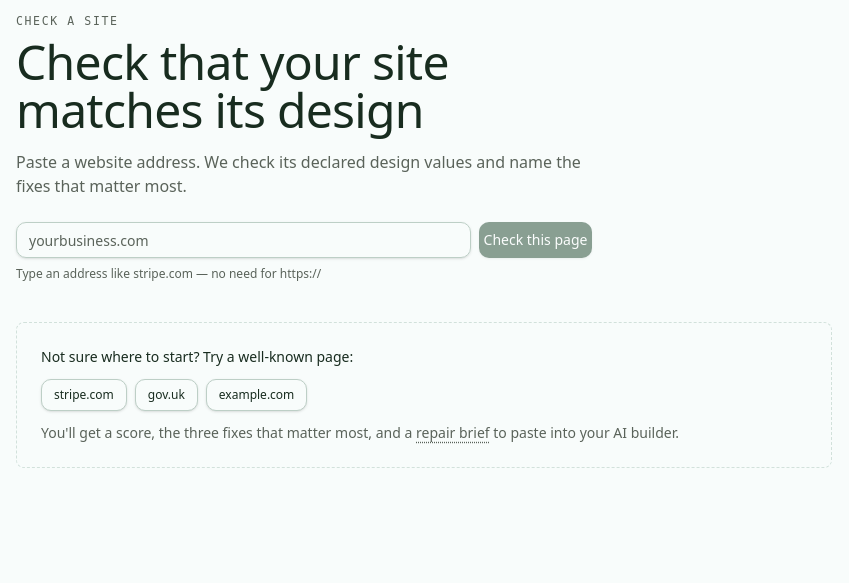
Test: allows a signed-in Sites colleague to check a website without a Supabase account
The image size is (849, 583).
Type "https://example.com" into the field named "Website address" at (244, 240), box [16,222,471,258]
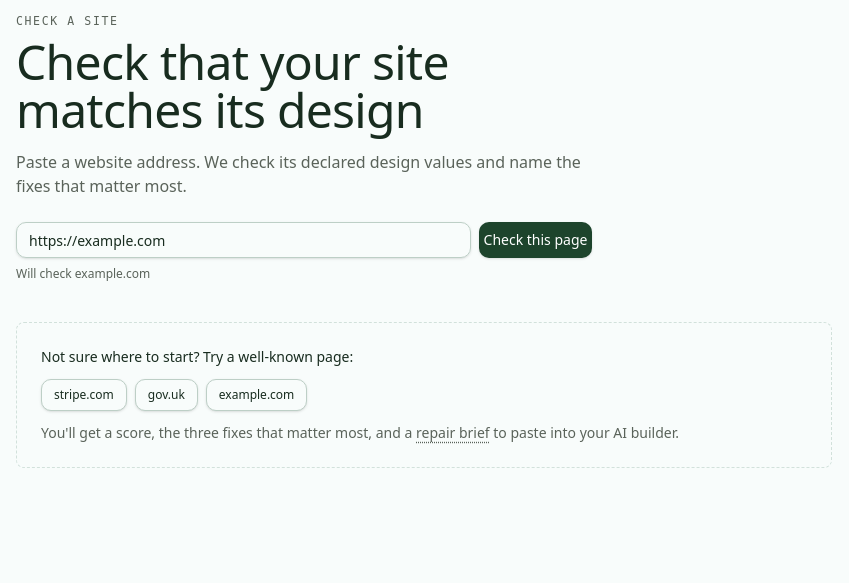
Check: the button "Check this page" is enabled
Click the button "Check this page" at (536, 240), box [479,222,592,258]
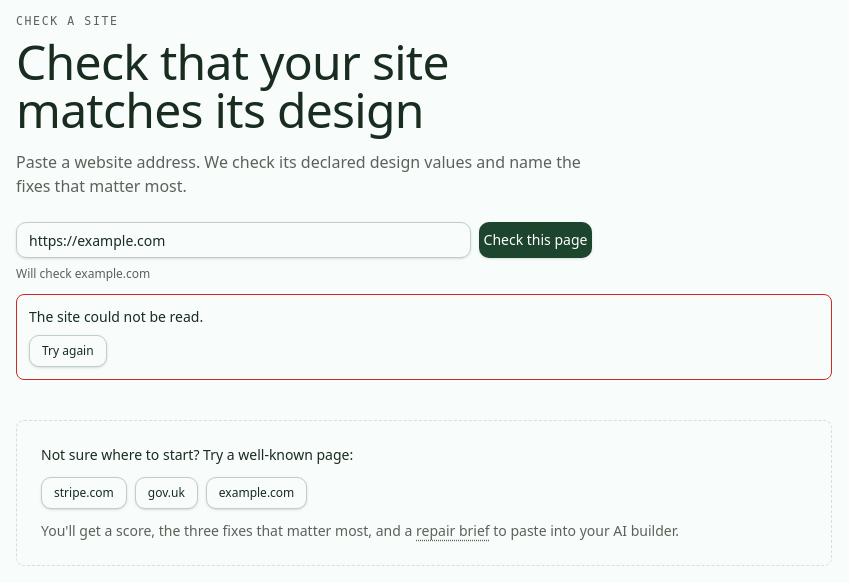
Check: the text "The site could not be read." is shown, box [29,307,203,326]
